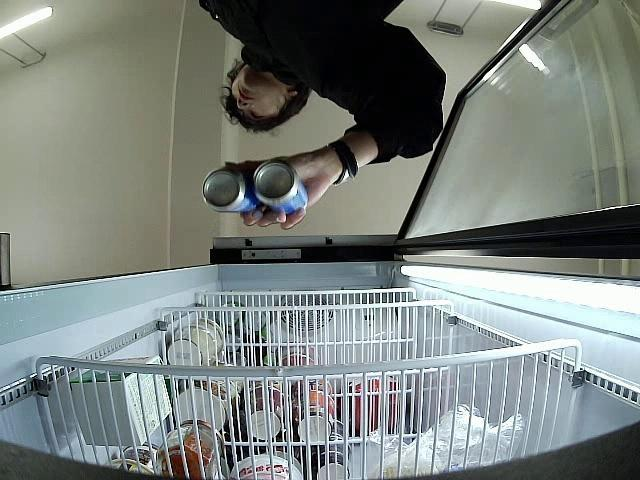15_letsbe: (252, 160, 308, 214), (202, 168, 260, 214)
